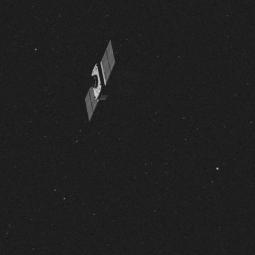soho: (63, 39, 140, 122)
